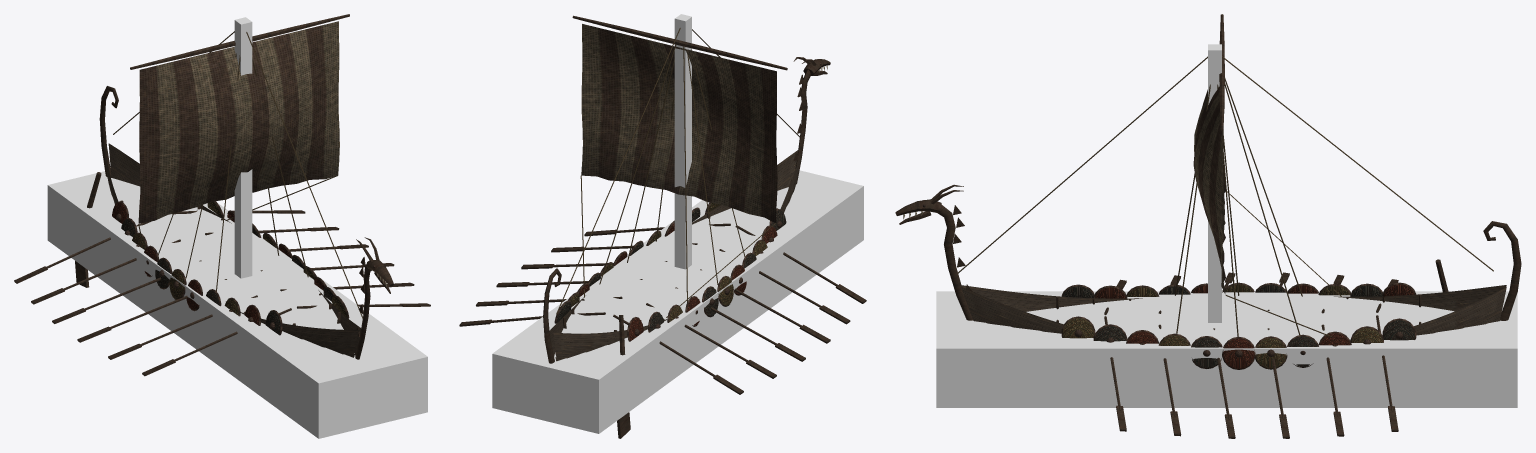
Rendered from boat_longship_ride_v1.glb.
3 renders of one model, left to right at view 1: azimuth 30°, elevation 25°; view 2: azimuth 150°, elevation 25°; view 3: azimuth 270°, elevation 25°, orthographic. The views are drawn at different scales.
Visible parts, largest first — view 1: col_hull, sail_cloth, hull, col_mast, yard, oar_R_2, oar_R_4, oar_R_3, oar_R_6, oar_R_5, oar_R_1; view 2: col_hull, sail_cloth, hull, col_mast, yard, oar_R_6, oar_R_1, oar_R_4, oar_R_2, oar_R_3, oar_R_5, oar_L_1; view 3: col_hull, hull, sail_cloth, col_mast.
Part boxes in pixels (x1,y1,x2,y2): col_hull: (47, 162, 427, 438); sail_cloth: (138, 21, 339, 223); hull: (75, 31, 393, 359); col_mast: (234, 17, 252, 278); yard: (130, 14, 349, 69); oar_R_2: (31, 239, 180, 304); oar_R_4: (77, 279, 226, 342); oar_R_3: (52, 260, 201, 323); oar_R_6: (142, 308, 291, 376); oar_R_5: (108, 295, 257, 359); oar_R_1: (14, 221, 151, 283); col_hull: (492, 170, 863, 433); sail_cloth: (581, 24, 777, 222); hull: (543, 28, 830, 438); col_mast: (674, 14, 691, 269); yard: (572, 15, 787, 70); oar_R_6: (735, 225, 866, 303); oar_R_1: (613, 314, 743, 394); oar_R_4: (700, 269, 830, 343); oar_R_2: (646, 303, 776, 378); oar_R_3: (675, 287, 805, 361); oar_R_5: (719, 249, 850, 324); oar_L_1: (459, 312, 605, 326); col_hull: (936, 291, 1517, 407); hull: (895, 56, 1521, 369); sail_cloth: (1193, 86, 1225, 294); col_mast: (1208, 44, 1221, 322).
Size of the model in its own units: 9.79 by 9.93 by 15.72.
Materials: 10 (10 with a texture image).
